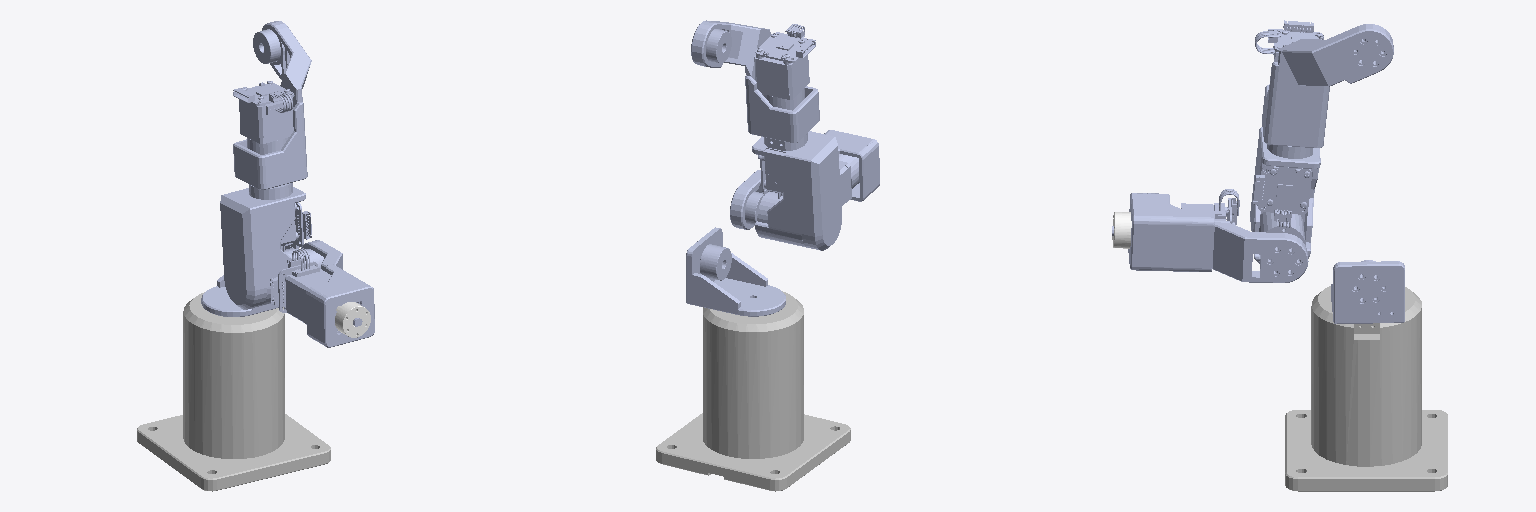
robot.urdf — rArm:
<?xml version="1.0" encoding="utf-8" ?>
<!-- This URDF was automatically created by SolidWorks to URDF Exporter! Originally created by [author] ([email redacted]) 
     Commit Version: 1.6.0-4-g7f85cfe  Build Version: 1.6.7995.38578
     For more information, please see http://wiki.ros.org/sw_urdf_exporter -->
<robot name="rArm">
    <link name="world" />
    <joint name="world_to_base" type="fixed">
        <origin xyz="0 0 0" rpy="0 0 0" />
        <parent link="world" />
        <child link="base_link" />
    </joint>
    <link name="base_link">
        <inertial>
            <origin xyz="-0.000243959622646744 0.0543589402237403 0.000140309878435986" rpy="0 0 0" />
            <mass value="0.429647225640808" />
            <inertia ixx="0.00138239181405175" ixy="6.97781156848522E-06" ixz="-1.47068009017832E-08" iyy="0.000822037201604634" iyz="3.4874101377122E-06" izz="0.00138158698467479" />
        </inertial>
        <visual>
            <origin xyz="0 0 0" rpy="0 0 0" />
            <geometry>
                <mesh filename="package://rArm/meshes/base_link.STL" />
            </geometry>
            <material name="">
                <color rgba="0.823529411764706 0.823529411764706 0.823529411764706 1" />
            </material>
        </visual>
        <collision>
            <origin xyz="0 0 0" rpy="0 0 0" />
            <geometry>
                <mesh filename="package://rArm/meshes/base_link.STL" />
            </geometry>
        </collision>
    </link>
    <link name="link_1">
        <inertial>
            <origin xyz="0.0240701175699888 0.0359232664993875 9.99507819035298E-05" rpy="0 0 0" />
            <mass value="0.0595250686049314" />
            <inertia ixx="2.56584148800544E-05" ixy="-1.09986135806387E-05" ixz="-1.17035223619903E-07" iyy="3.87637926630439E-05" iyz="3.39922467094331E-08" izz="3.69407209069928E-05" />
        </inertial>
        <visual>
            <origin xyz="0 0 0" rpy="0 0 0" />
            <geometry>
                <mesh filename="package://rArm/meshes/link_1.STL" />
            </geometry>
            <material name="">
                <color rgba="0.792156862745098 0.819607843137255 0.933333333333333 1" />
            </material>
        </visual>
        <collision>
            <origin xyz="0 0 0" rpy="0 0 0" />
            <geometry>
                <mesh filename="package://rArm/meshes/link_1.STL" />
            </geometry>
        </collision>
    </link>
    <joint name="joint_1" type="revolute">
        <origin xyz="0 0 0.1076" rpy="1.5708 0 0.0099134" />
        <parent link="base_link" />
        <child link="link_1" />
        <axis xyz="0 1 0" />
        <limit lower="-1.57" upper="1.57" effort="300" velocity="3" />
    </joint>
    <link name="link_2">
        <inertial>
            <origin xyz="-5.77584369427213E-05 -9.95517525412271E-05 0.0199158403290279" rpy="0 0 0" />
            <mass value="0.421675621337573" />
            <inertia ixx="0.00110476472353023" ixy="-5.84051901309569E-07" ixz="1.69794505556865E-07" iyy="0.000137814016788281" iyz="1.05134879133715E-07" izz="0.00110070555722074" />
        </inertial>
        <visual>
            <origin xyz="0 0.1 0" rpy="0 0 0" />
            <geometry>
                <mesh filename="package://rArm/meshes/link_2.STL" />
            </geometry>
            <material name="">
                <color rgba="0.792156862745098 0.819607843137255 0.933333333333333 1" />
            </material>
        </visual>
        <collision>
            <origin xyz="0 0.1 0" rpy="0 0 0" />
            <geometry>
                <mesh filename="package://rArm/meshes/link_2.STL" />
            </geometry>
        </collision>
    </link>
    <joint name="joint_2" type="revolute">
        <origin xyz="-0.0295 0.0535 0" rpy="-0.47834 1.5708 -0.47839" />
        <parent link="link_1" />
        <child link="link_2" />
        <axis xyz="0 0 1" />
        <limit lower="0" upper="1.57" effort="200" velocity="3" />
    </joint>
    <link name="link_3">
        <inertial>
            <origin xyz="0.0376139394572023 -0.0475378250287087 0.0409355826997525" rpy="0 0 0" />
            <mass value="0.161594463227238" />
            <inertia ixx="0.000133417271587139" ixy="-4.04852847949907E-05" ixz="1.57601761028247E-05" iyy="7.62005896975345E-05" iyz="2.78428759677757E-05" izz="0.000131383815910836" />
        </inertial>
        <visual>
            <origin xyz="0 0 0" rpy="0 0 0" />
            <geometry>
                <mesh filename="package://rArm/meshes/link_3.STL" />
            </geometry>
            <material name="">
                <color rgba="0.792156862745098 0.819607843137255 0.933333333333333 1" />
            </material>
        </visual>
        <collision>
            <origin xyz="0 0 0" rpy="0 0 0" />
            <geometry>
                <mesh filename="package://rArm/meshes/link_3.STL" />
            </geometry>
        </collision>
    </link>
    <joint name="joint_3" type="revolute">
        <origin xyz="0 0.2 0.0033574" rpy="-0.1 -1.5708 0" />
        <parent link="link_2" />
        <child link="link_3" />
        <axis xyz="-1 0 0" />
        <limit lower="0" upper="3.142" effort="200" velocity="3" />
    </joint>
    <link name="link_4">
        <inertial>
            <origin xyz="-0.00575300999128266 -0.043700495134287 0.00015612234623974" rpy="0 0 0" />
            <mass value="0.162848333889868" />
            <inertia ixx="0.000111122629024118" ixy="-4.36000343519648E-07" ixz="-1.60976703876801E-07" iyy="4.35604794263214E-05" iyz="-1.18106248974113E-07" izz="0.000105520267846187" />
        </inertial>
        <visual>
            <origin xyz="0 0 0" rpy="0 0 0" />
            <geometry>
                <mesh filename="package://rArm/meshes/link_4.STL" />
            </geometry>
            <material name="">
                <color rgba="0.792156862745098 0.819607843137255 0.933333333333333 1" />
            </material>
        </visual>
        <collision>
            <origin xyz="0 0 0" rpy="0 0 0" />
            <geometry>
                <mesh filename="package://rArm/meshes/link_4.STL" />
            </geometry>
        </collision>
    </link>
    <joint name="joint_4" type="revolute">
        <origin xyz="0.026143 -0.109 0.047631" rpy="0 0 0" />
        <parent link="link_3" />
        <child link="link_4" />
        <axis xyz="0 1 0" />
        <limit lower="0" upper="3.142" effort="200" velocity="3" />
    </joint>
    <link name="link_5">
        <inertial>
            <origin xyz="-0.0316306190248438 0.000226147263476556 0.0664198247447715" rpy="0 0 0" />
            <mass value="0.155236127458214" />
            <inertia ixx="0.000130984067592516" ixy="-8.04956263237243E-08" ixz="4.12217342807323E-05" iyy="0.000144738658809021" iyz="1.93716079942043E-07" izz="5.51248372533013E-05" />
        </inertial>
        <visual>
            <origin xyz="0 0 0" rpy="0 0 0" />
            <geometry>
                <mesh filename="package://rArm/meshes/link_5.STL" />
            </geometry>
            <material name="">
                <color rgba="0.792156862745098 0.819607843137255 0.933333333333333 1" />
            </material>
        </visual>
        <collision>
            <origin xyz="0 0 0" rpy="0 0 0" />
            <geometry>
                <mesh filename="package://rArm/meshes/link_5.STL" />
            </geometry>
        </collision>
    </link>
    <joint name="joint_5" type="revolute">
        <origin xyz="0.0415 -0.0735 0" rpy="0.05154 0 0" />
        <parent link="link_4" />
        <child link="link_5" />
        <axis xyz="1 0 0" />
        <limit lower="0" upper="3.142" effort="200" velocity="3" />
    </joint>
    <link name="link_6">
        <inertial>
            <origin xyz="-0.1 -0.1 0" rpy="0 0 0" />
            <mass value="0.00881635142307731" />
            <inertia ixx="6.52932081295388E-07" ixy="-5.41981015806961E-23" ixz="1.50133281178375E-22" iyy="6.52932081295387E-07" iyz="5.49661517041487E-22" izz="9.30679454720125E-07" />
        </inertial>
        <visual>
            <origin xyz="0.00486 0.0032 0" rpy="0 0 0" />
            <geometry>
                <mesh filename="package://rArm/meshes/link_6.STL" />
            </geometry>
            <material name="">
                <color rgba="1 1 1 1" />
            </material>
        </visual>
        <collision>
            <origin xyz="0.00468 0.00242 0" rpy="0 0 0" />
            <geometry>
                <mesh filename="package://rArm/meshes/link_6.STL" />
            </geometry>
        </collision>
    </link>
    <joint name="joint_6" type="revolute">
        <origin xyz="-0.0365 0 0.11241" rpy="3.1416 0 -2.6181" />
        <parent link="link_5" />
        <child link="link_6" />
        <axis xyz="0 0 1" />
        <limit lower="0" upper="3.142" effort="200" velocity="3" />
    </joint>
    <transmission name="trans_joint_1">
        <type>transmission_interface/SimpleTransmission</type>
        <joint name="joint_1">
            <hardwareInterface>hardware_interface/EffortJointInterface</hardwareInterface>
        </joint>
        <actuator name="joint_1_motor">
            <hardwareInterface>hardware_interface/EffortJointInterface</hardwareInterface>
            <mechanicalReduction>1</mechanicalReduction>
        </actuator>
    </transmission>
    <transmission name="trans_joint_2">
        <type>transmission_interface/SimpleTransmission</type>
        <joint name="joint_2">
            <hardwareInterface>hardware_interface/EffortJointInterface</hardwareInterface>
        </joint>
        <actuator name="joint_2_motor">
            <hardwareInterface>hardware_interface/EffortJointInterface</hardwareInterface>
            <mechanicalReduction>1</mechanicalReduction>
        </actuator>
    </transmission>
    <transmission name="trans_joint_3">
        <type>transmission_interface/SimpleTransmission</type>
        <joint name="joint_3">
            <hardwareInterface>hardware_interface/EffortJointInterface</hardwareInterface>
        </joint>
        <actuator name="joint_3_motor">
            <hardwareInterface>hardware_interface/EffortJointInterface</hardwareInterface>
            <mechanicalReduction>1</mechanicalReduction>
        </actuator>
    </transmission>
    <transmission name="trans_joint_4">
        <type>transmission_interface/SimpleTransmission</type>
        <joint name="joint_4">
            <hardwareInterface>hardware_interface/EffortJointInterface</hardwareInterface>
        </joint>
        <actuator name="joint_4_motor">
            <hardwareInterface>hardware_interface/EffortJointInterface</hardwareInterface>
            <mechanicalReduction>1</mechanicalReduction>
        </actuator>
    </transmission>
    <transmission name="trans_joint_5">
        <type>transmission_interface/SimpleTransmission</type>
        <joint name="joint_5">
            <hardwareInterface>hardware_interface/EffortJointInterface</hardwareInterface>
        </joint>
        <actuator name="joint_5_motor">
            <hardwareInterface>hardware_interface/EffortJointInterface</hardwareInterface>
            <mechanicalReduction>1</mechanicalReduction>
        </actuator>
    </transmission>
    <transmission name="trans_joint_6">
        <type>transmission_interface/SimpleTransmission</type>
        <joint name="joint_6">
            <hardwareInterface>hardware_interface/EffortJointInterface</hardwareInterface>
        </joint>
        <actuator name="joint_6_motor">
            <hardwareInterface>hardware_interface/EffortJointInterface</hardwareInterface>
            <mechanicalReduction>1</mechanicalReduction>
        </actuator>
    </transmission>
    <gazebo>
        <plugin name="gazebo_ros_control" filename="libgazebo_ros_control.so">
            <robotNamespace>/</robotNamespace>
        </plugin>
    </gazebo>
</robot>

--- Render facts (derived) ---
The picture shows the robot from 3 angles, left to right: view 1: azimuth 30°, elevation 25°; view 2: azimuth 150°, elevation 25°; view 3: azimuth 270°, elevation 25°; orthographic projection.
Robot: rArm — 8 links, 7 joints (6 revolute, 1 fixed); root link world; default pose: every joint at zero.
Visible links, largest first — view 1: base_link, link_3, link_4, link_5, link_1, link_6; view 2: base_link, link_3, link_4, link_1, link_5; view 3: base_link, link_5, link_3, link_4, link_1, link_6.
Link boxes in pixels (x1,y1,x2,y2): base_link: (137, 292, 330, 491); link_3: (233, 21, 311, 189); link_4: (220, 183, 311, 309); link_5: (270, 240, 374, 347); link_1: (201, 245, 292, 316); link_6: (335, 302, 370, 337); base_link: (656, 291, 850, 491); link_3: (691, 20, 819, 142); link_4: (752, 131, 841, 250); link_1: (686, 227, 785, 316); link_5: (730, 130, 879, 229); base_link: (1285, 286, 1447, 491); link_5: (1112, 189, 1308, 282); link_3: (1255, 20, 1393, 147); link_4: (1250, 127, 1320, 263); link_1: (1331, 260, 1404, 323); link_6: (1112, 212, 1131, 248).
Size in the robot's own frame: 0.125 by 0.2581 by 0.3849 metres.
Meshes: 7 distinct files referenced, 6 mesh visuals loaded (6 binary STL); not drawn: 1 (reference not matched to a file when rendering).